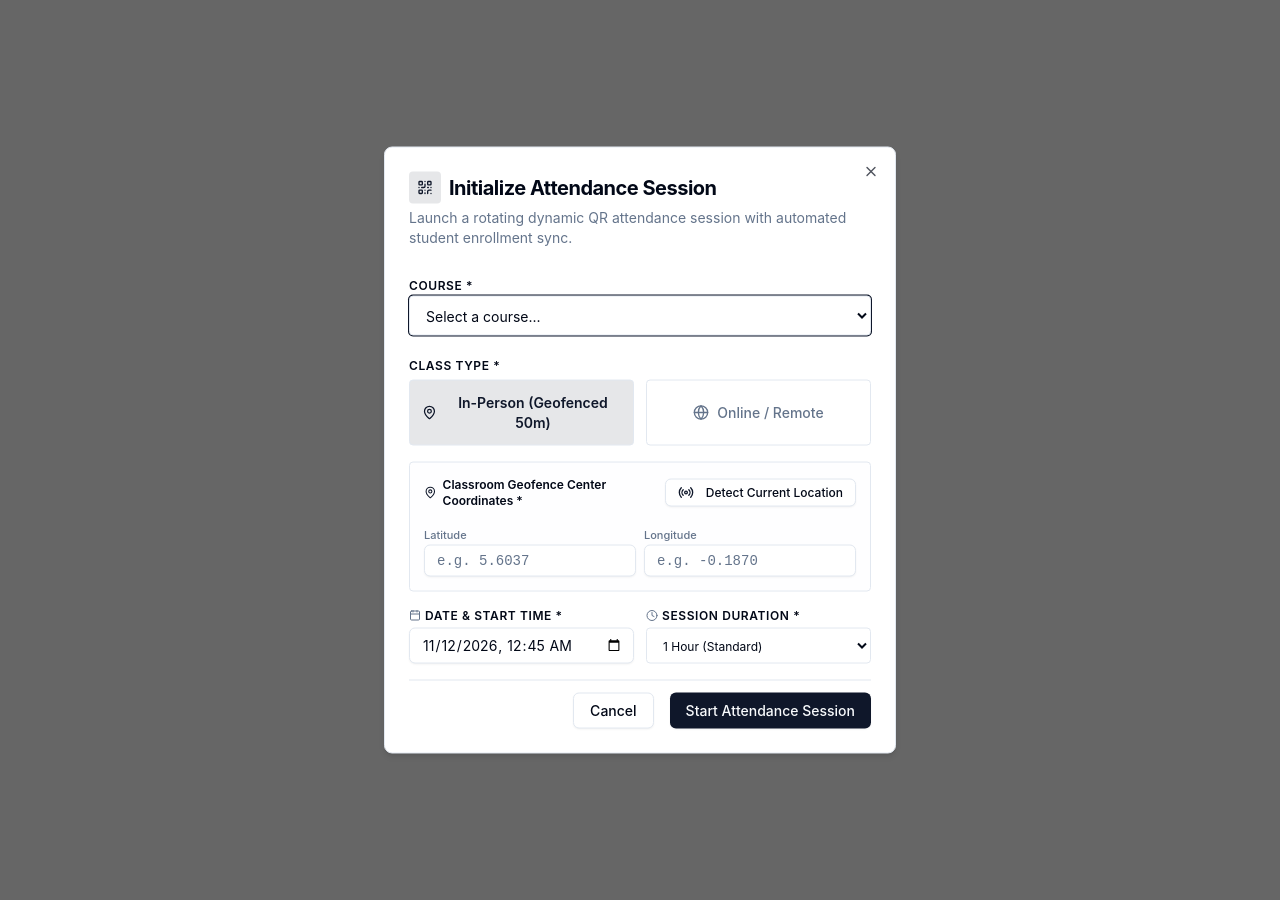
Attendance Dialogs, Projector & Components › InitializeSessionDialog › renders form inputs and validates required fields on empty submit
Expected: the heading "Initialize Attendance Session" is shown, [449,174,716,202]
Step 1. Click the button "Start Attendance Session" → (770, 710), box [670,692,871,728]
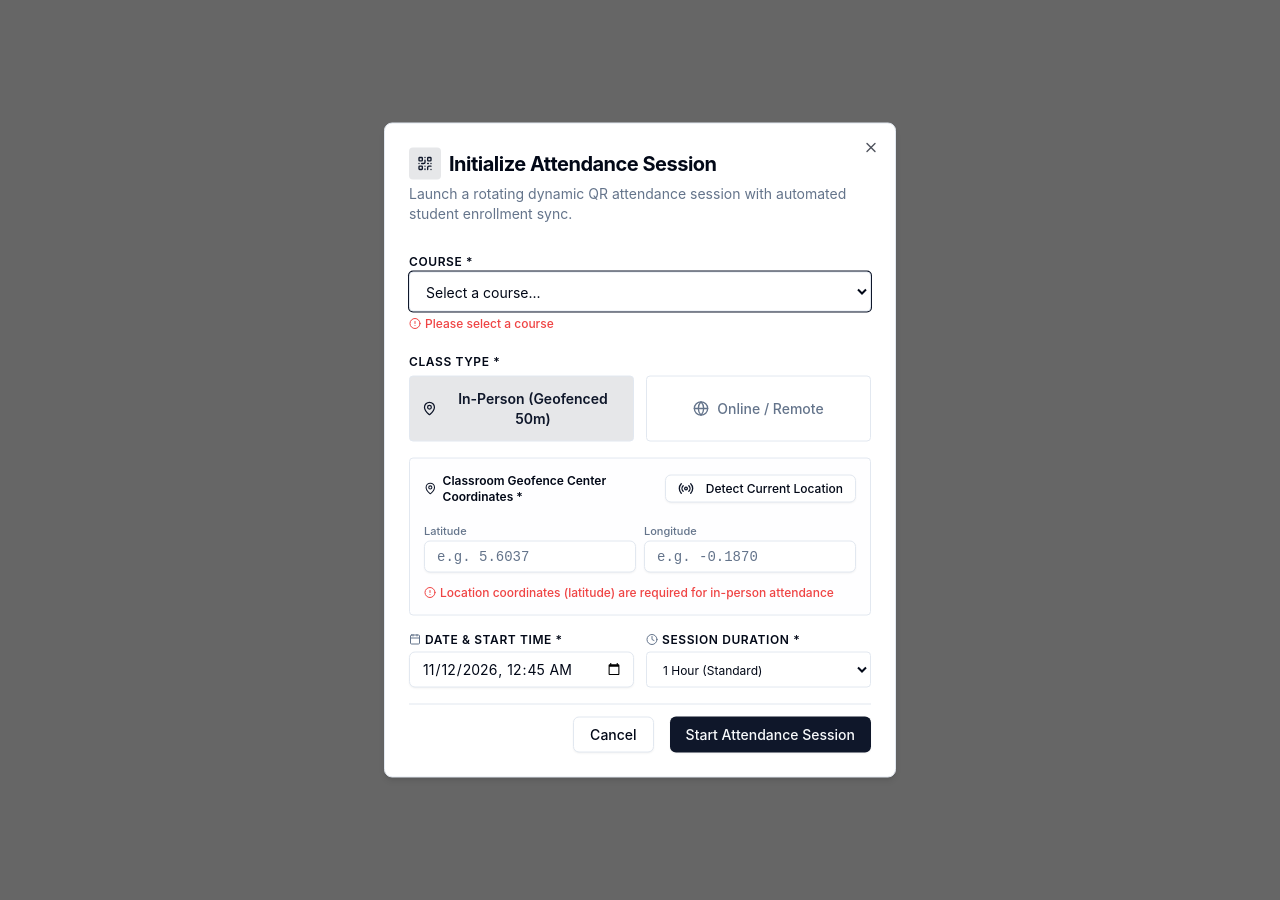
Result: the text "Please select a course" is shown at [409,316,554,330]
